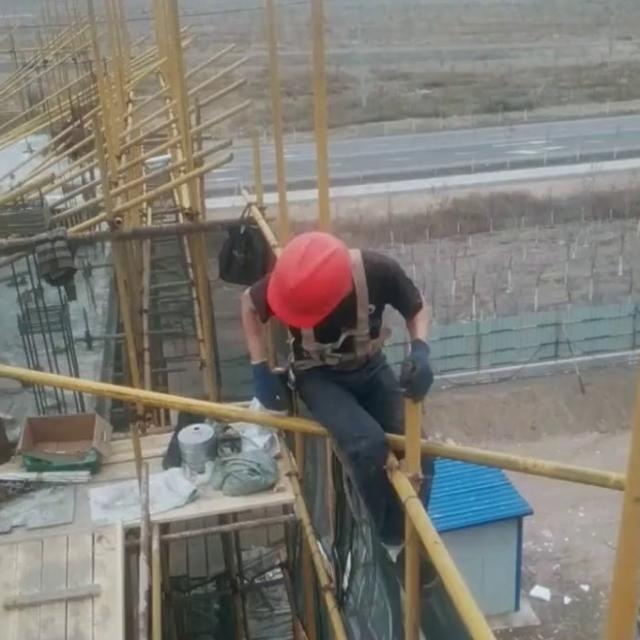Arnes_seguridad: (281, 244, 391, 378)
